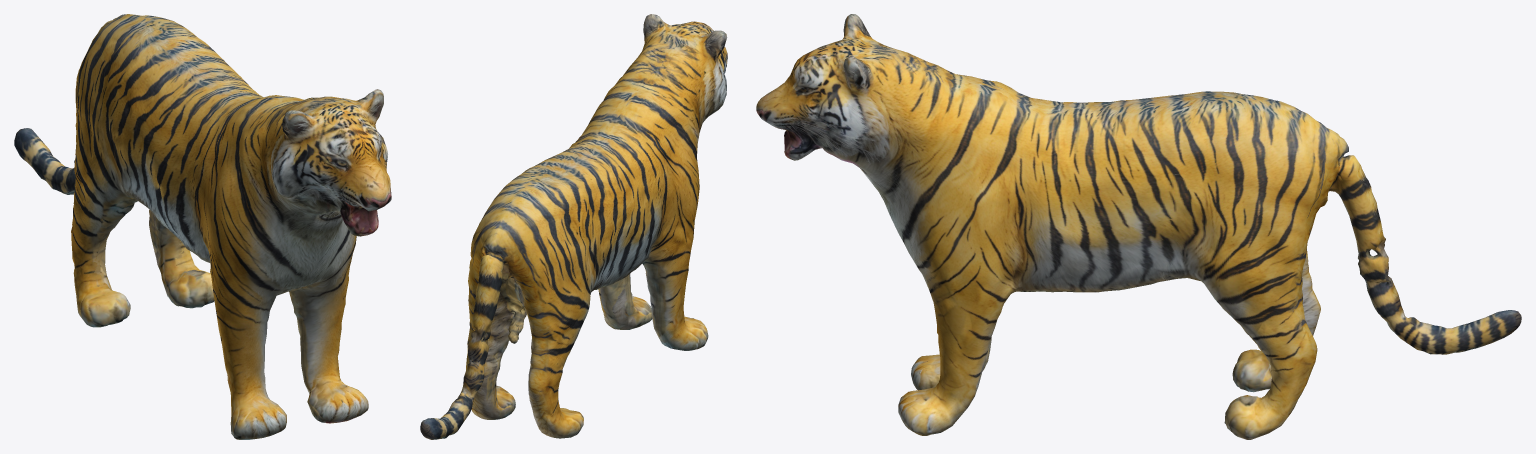
File: tiger.glb
3 renders of one model, left to right at view 1: azimuth 30°, elevation 25°; view 2: azimuth 150°, elevation 25°; view 3: azimuth 270°, elevation 25°, orthographic. The views are drawn at different scales.
Bounding box in the file's own units: 0.2597 × 0.6475 × 1.2.
1 material, 1 textured.
